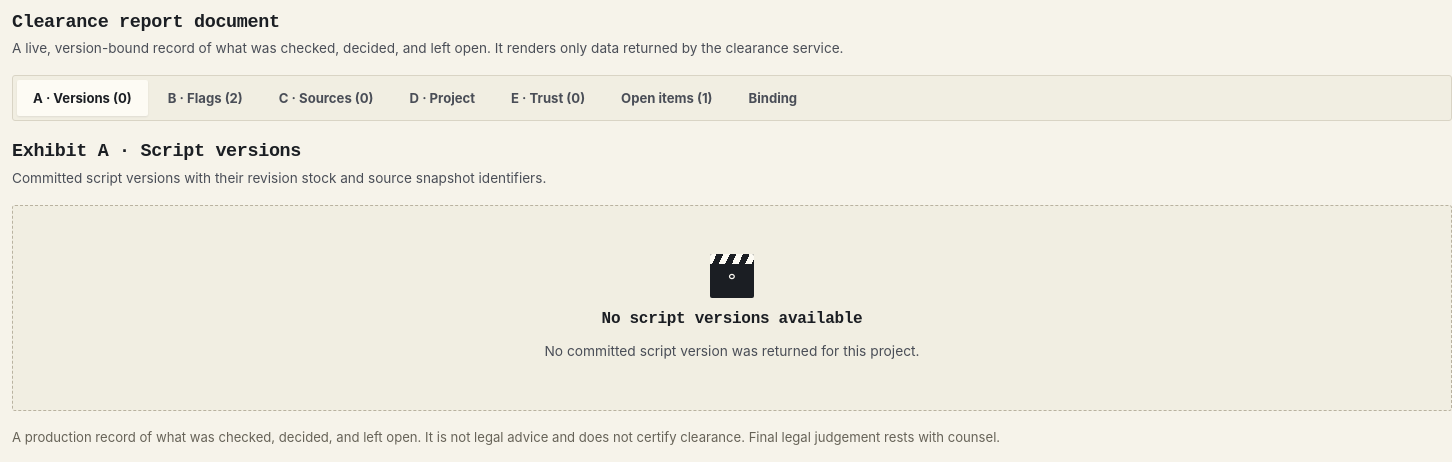
ReportDocument renders only real data › lists unresolved items in the open-items appendix
What coordinates should you click on to do the following:
click the button "Open items (1)"
I would click on:
 (667, 98)
Its box is x1=605 y1=80 x2=728 y2=116.
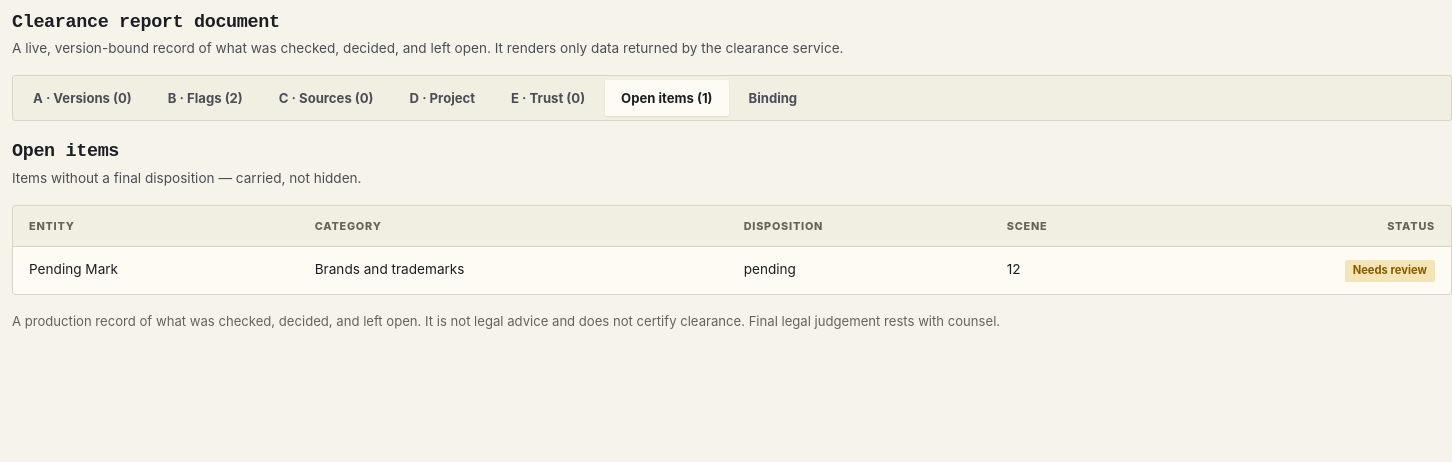
Result: the text "Pending Mark" is shown at x1=13 y1=248 x2=299 y2=294
